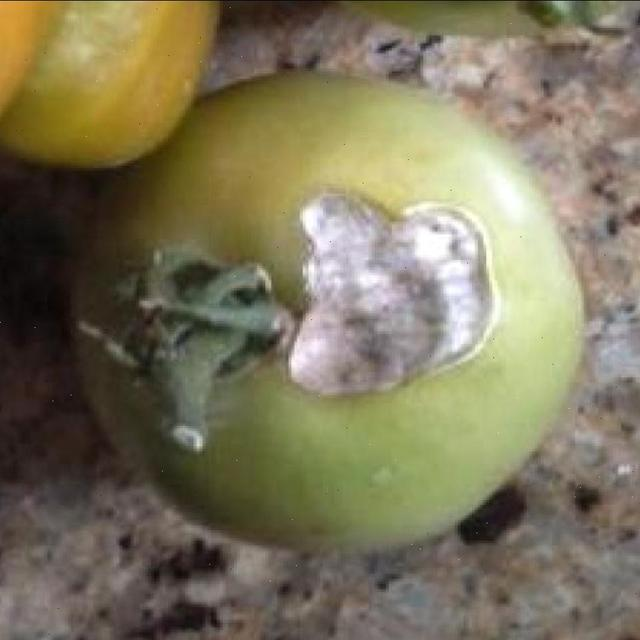Sunscald Fruit: (166, 118, 339, 299)
